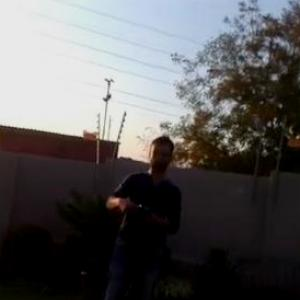follow: (95, 126, 186, 299)
